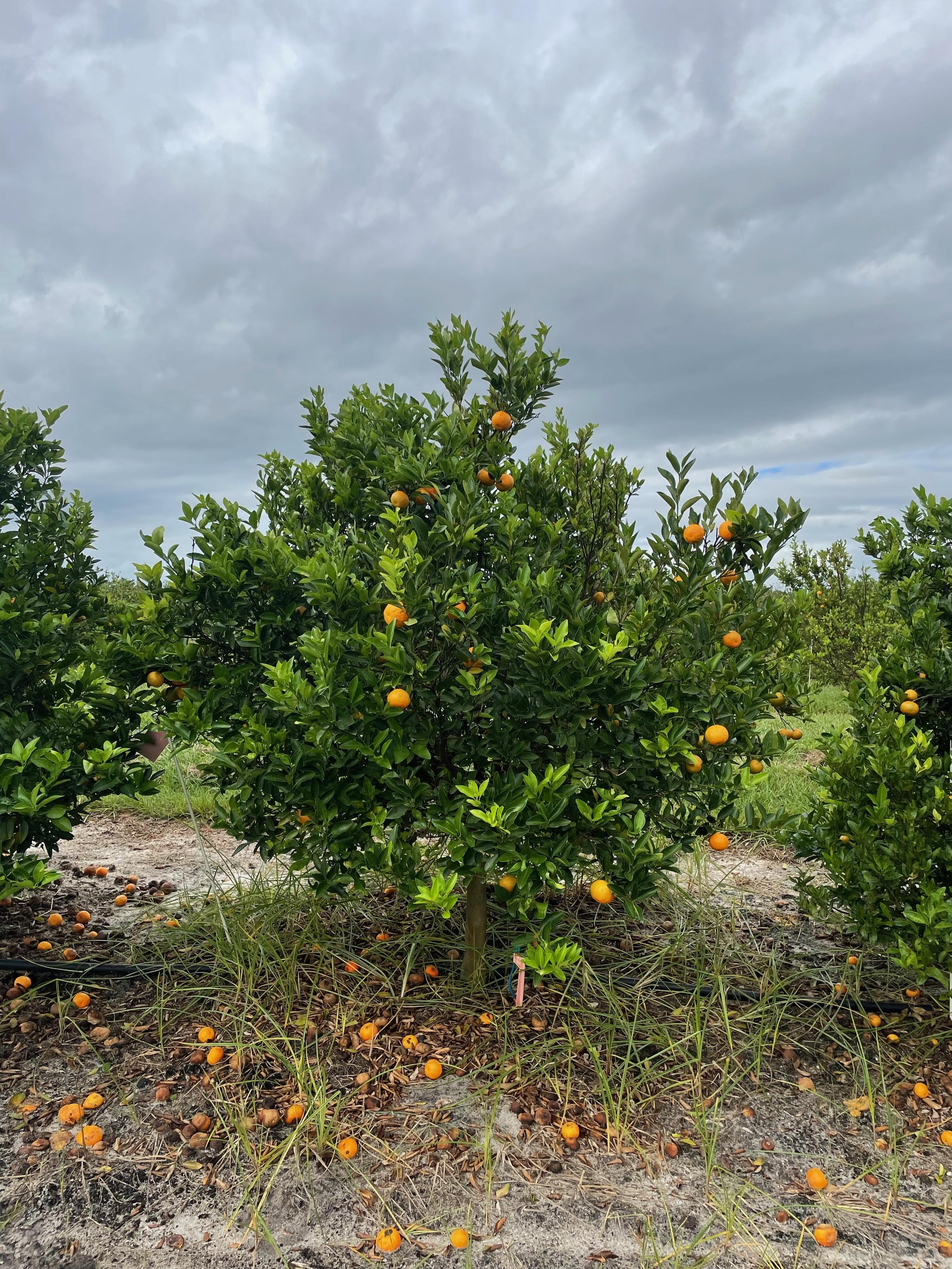fruit_on_ground: (380, 599, 413, 630), (457, 644, 488, 675), (441, 595, 471, 622), (588, 877, 616, 905), (384, 685, 413, 711), (716, 518, 742, 544), (703, 722, 730, 747), (681, 522, 707, 547), (489, 408, 515, 433), (388, 486, 413, 511), (716, 566, 742, 589), (292, 806, 317, 829), (671, 573, 695, 596), (591, 699, 615, 722), (497, 873, 521, 896), (707, 830, 731, 853), (409, 485, 433, 507), (494, 470, 516, 494), (175, 682, 200, 703), (766, 688, 789, 710), (682, 752, 704, 775), (721, 629, 744, 650), (145, 668, 167, 689), (476, 466, 497, 488), (159, 685, 180, 706), (898, 698, 921, 717), (420, 482, 441, 502), (836, 829, 856, 848), (746, 757, 765, 776), (169, 671, 189, 687), (901, 687, 919, 704), (693, 732, 710, 750), (776, 725, 793, 742), (592, 590, 608, 605), (789, 727, 804, 741), (816, 589, 823, 596), (819, 603, 825, 610)
fruit_on_tree: (373, 1224, 403, 1254), (74, 1122, 104, 1148), (812, 1220, 839, 1248), (803, 1165, 829, 1191), (57, 1101, 86, 1124), (335, 1135, 360, 1161), (448, 1225, 472, 1250), (257, 1106, 280, 1128), (284, 1101, 305, 1125), (357, 1021, 379, 1043), (195, 1023, 217, 1044), (70, 989, 92, 1010), (422, 1057, 444, 1078), (559, 1120, 581, 1141), (191, 1111, 212, 1132), (204, 1044, 226, 1064), (81, 1091, 104, 1110), (228, 1052, 249, 1072), (187, 1132, 210, 1150), (661, 1140, 681, 1160), (400, 1031, 421, 1050), (794, 1075, 816, 1093), (935, 1235, 952, 1258), (237, 1114, 257, 1133), (529, 1012, 550, 1030), (352, 1070, 373, 1088), (406, 968, 427, 986), (88, 1023, 110, 1040), (153, 1084, 172, 1103), (912, 1080, 931, 1099), (12, 974, 33, 991), (475, 1009, 494, 1027), (534, 1108, 553, 1126), (434, 1134, 453, 1151), (45, 911, 64, 928), (361, 1096, 381, 1112), (444, 946, 462, 963), (423, 962, 441, 979), (47, 999, 66, 1015), (187, 1049, 206, 1065), (865, 1012, 884, 1028), (938, 1127, 952, 1148), (317, 975, 334, 992), (517, 1110, 535, 1126), (343, 958, 361, 974), (320, 990, 339, 1005), (372, 1014, 389, 1030), (759, 1135, 776, 1151), (381, 882, 399, 897), (61, 946, 79, 961), (903, 984, 922, 998), (741, 1103, 757, 1119), (75, 908, 91, 924), (618, 937, 635, 952), (5, 985, 22, 1000), (562, 1137, 580, 1151), (593, 1110, 609, 1125), (833, 980, 849, 995), (446, 1124, 461, 1139), (509, 1100, 524, 1115), (0, 893, 14, 909), (113, 892, 129, 906), (36, 938, 52, 952), (83, 865, 100, 878), (374, 930, 392, 942), (71, 921, 86, 935), (159, 881, 175, 894), (661, 918, 675, 932), (886, 1031, 901, 1044), (845, 953, 860, 966), (95, 864, 110, 877), (123, 882, 137, 894), (165, 916, 179, 928), (126, 874, 138, 884), (88, 929, 99, 939)
